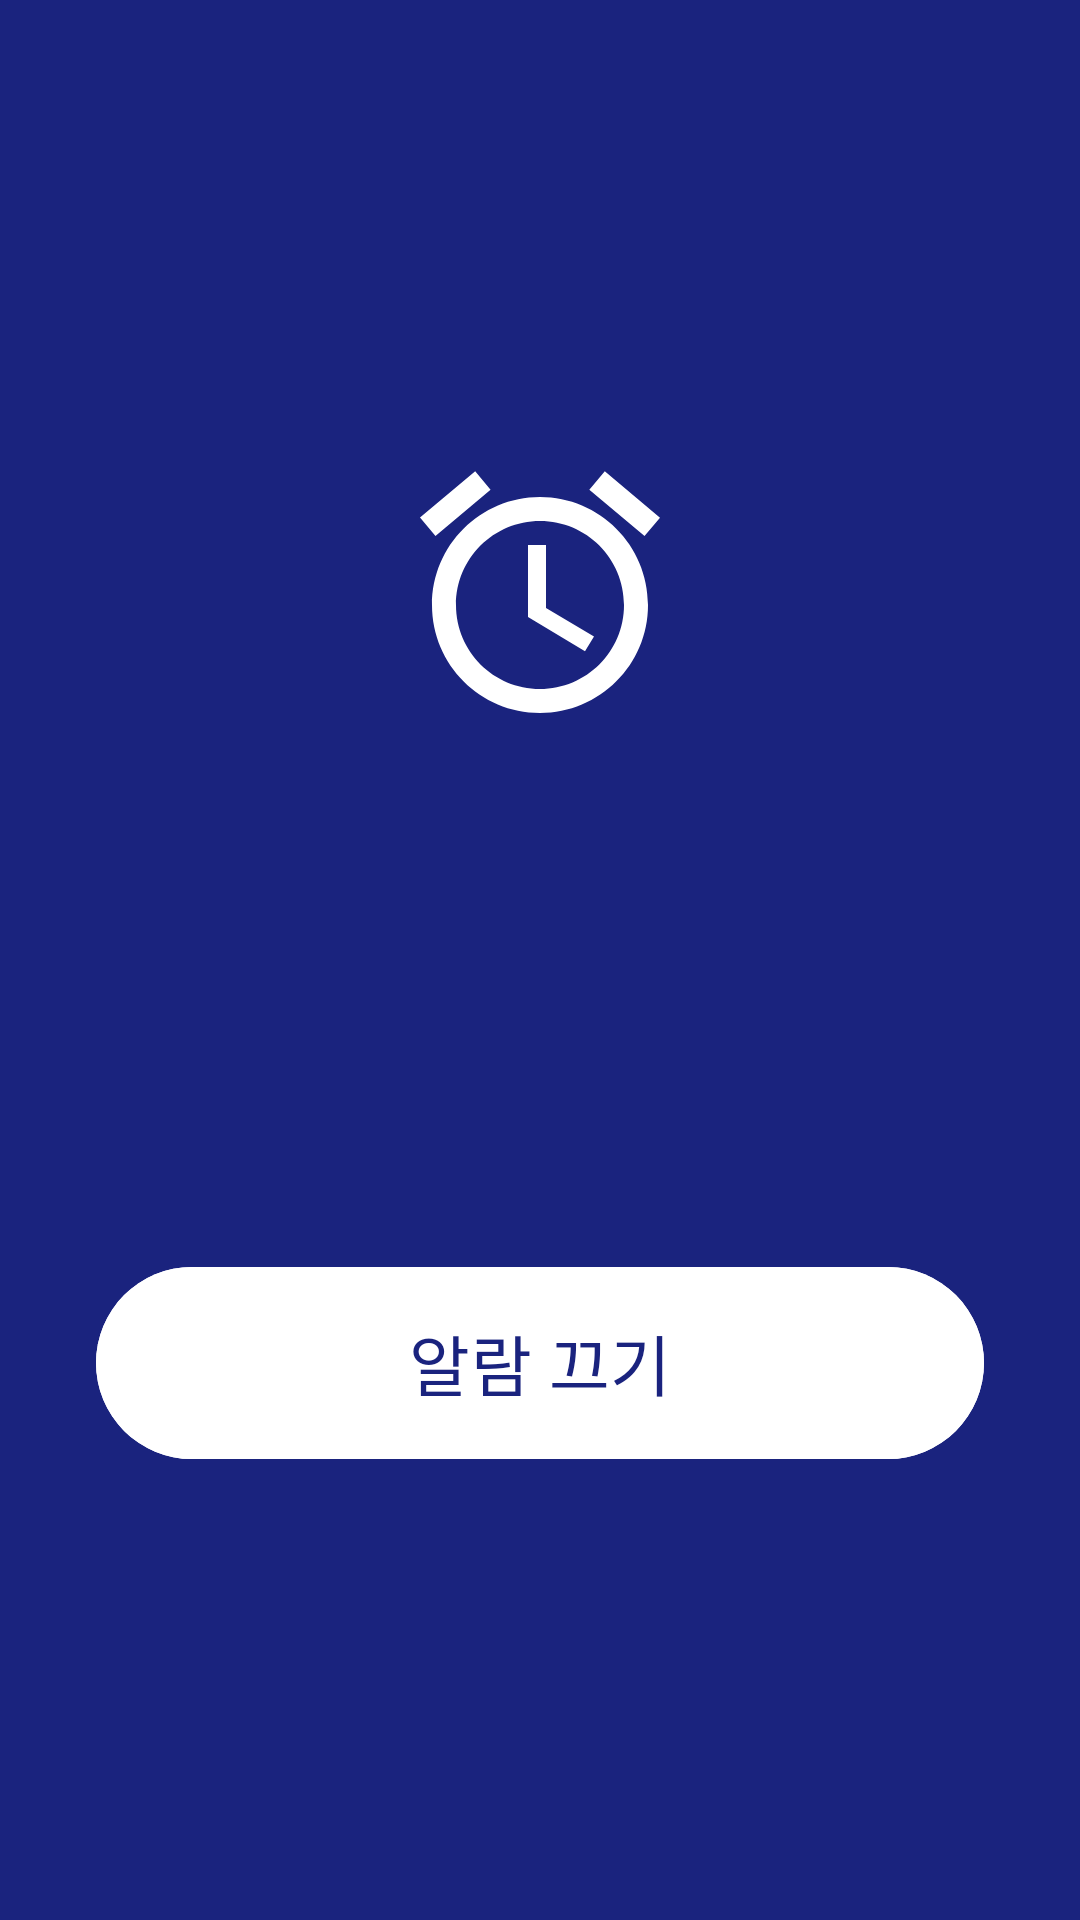

Screen size 1080w x 1920h. Icon name, then its center in pixels as point (x, y):
알람: point (540, 592)
